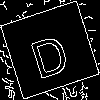D: (25, 25, 73, 80)
